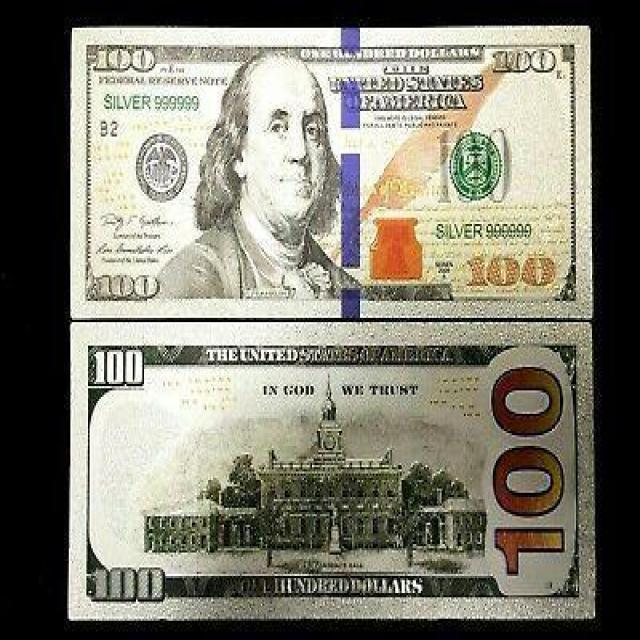100-Back: (72, 322, 595, 619)
100-Front: (72, 28, 592, 320)
